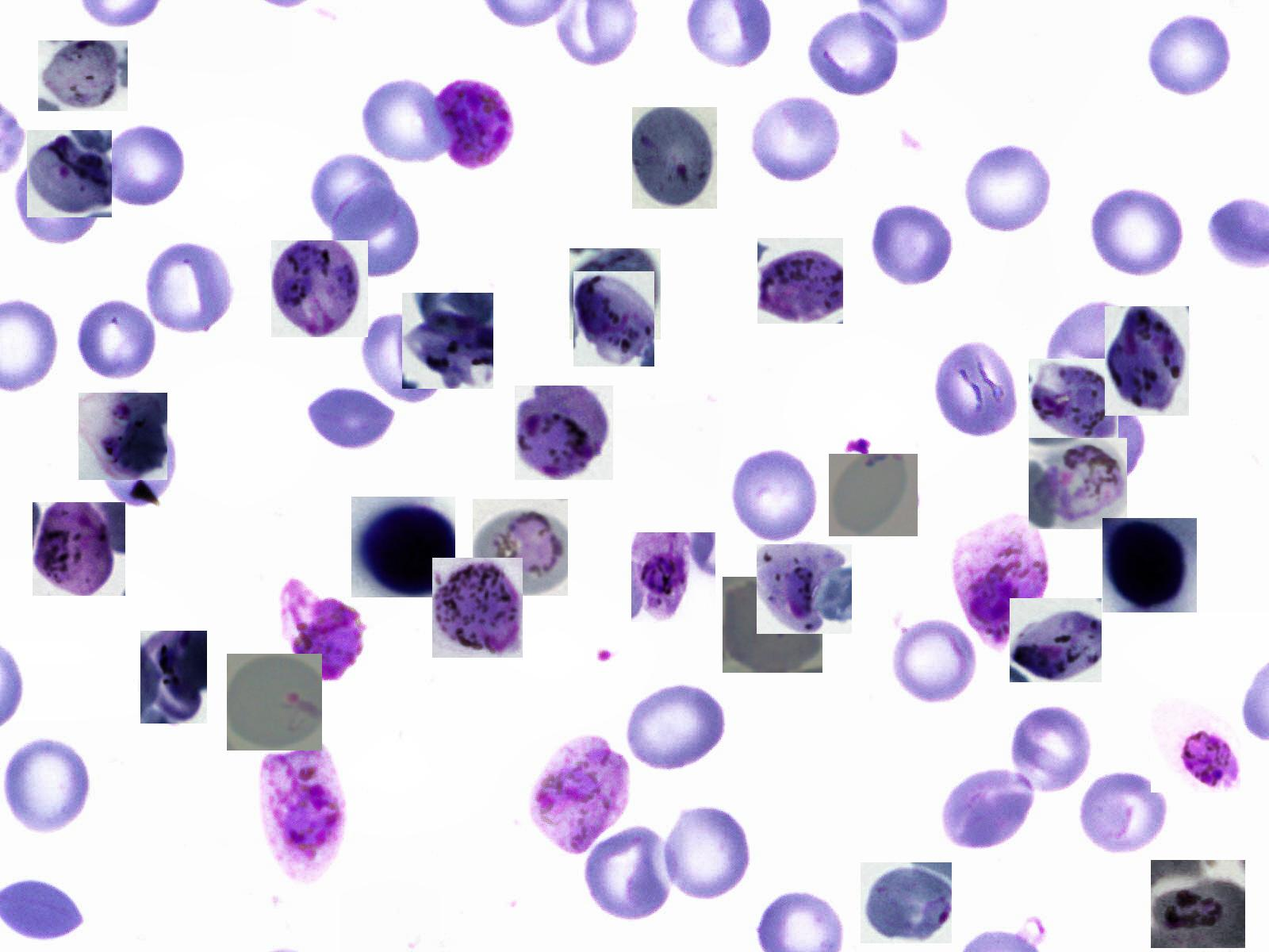Infected: (256, 735, 348, 881), (526, 735, 630, 859), (957, 516, 1049, 654), (351, 497, 455, 597), (275, 578, 368, 681), (723, 577, 822, 673), (271, 240, 368, 337), (1105, 306, 1189, 416), (473, 499, 568, 596), (515, 386, 613, 480), (227, 654, 322, 750), (432, 558, 523, 658), (1102, 518, 1197, 612), (1029, 438, 1127, 529), (402, 293, 493, 389), (632, 107, 717, 209), (33, 502, 125, 596), (757, 544, 852, 634), (569, 248, 661, 340), (1151, 698, 1240, 793), (1151, 860, 1245, 948), (573, 271, 654, 367), (1010, 598, 1102, 682), (79, 393, 167, 480), (1029, 359, 1118, 445), (431, 79, 514, 171), (631, 532, 715, 622), (757, 238, 843, 324), (27, 131, 112, 218), (861, 862, 952, 943), (829, 454, 918, 536), (39, 40, 128, 111), (141, 631, 207, 724)
Uninfected: (1087, 182, 1187, 282), (625, 679, 730, 774), (658, 804, 754, 903), (582, 823, 678, 921), (329, 179, 422, 279), (1051, 393, 1144, 491), (937, 765, 1040, 852), (728, 447, 823, 541), (1045, 302, 1140, 395), (3, 735, 92, 834), (1075, 765, 1174, 854), (144, 243, 236, 337), (359, 76, 455, 166), (805, 13, 906, 97), (748, 95, 843, 184), (95, 124, 190, 212), (964, 141, 1053, 234), (16, 152, 102, 248), (934, 340, 1016, 440), (889, 616, 980, 706), (359, 313, 447, 405), (1012, 707, 1098, 797), (1144, 14, 1236, 97), (309, 155, 399, 239), (98, 420, 178, 510), (869, 205, 955, 285), (77, 298, 158, 377), (305, 387, 397, 451)
